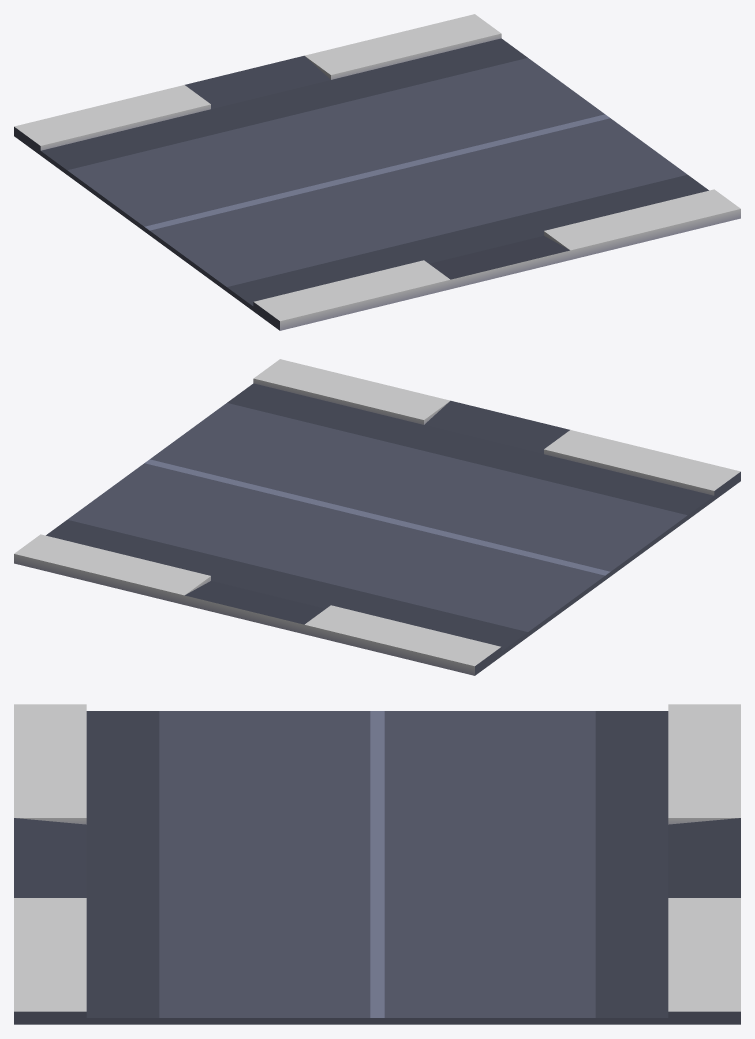
Rendered from road-driveway-double.glb.
3 renders of one model, top to bottom at view 1: azimuth 30°, elevation 25°; view 2: azimuth 150°, elevation 25°; view 3: azimuth 270°, elevation 25°, orthographic. The views are drawn at different scales.
Parts seen in each view (by area): view 1: road-driveway-double; view 2: road-driveway-double; view 3: road-driveway-double.
Boxes of the visible parts, x1=… form: road-driveway-double: x1=14, y1=14, x2=740, y2=330; road-driveway-double: x1=14, y1=359, x2=740, y2=675; road-driveway-double: x1=14, y1=704, x2=740, y2=1024.
Bounding box in the file's own units: 1 × 0.02 × 1.
